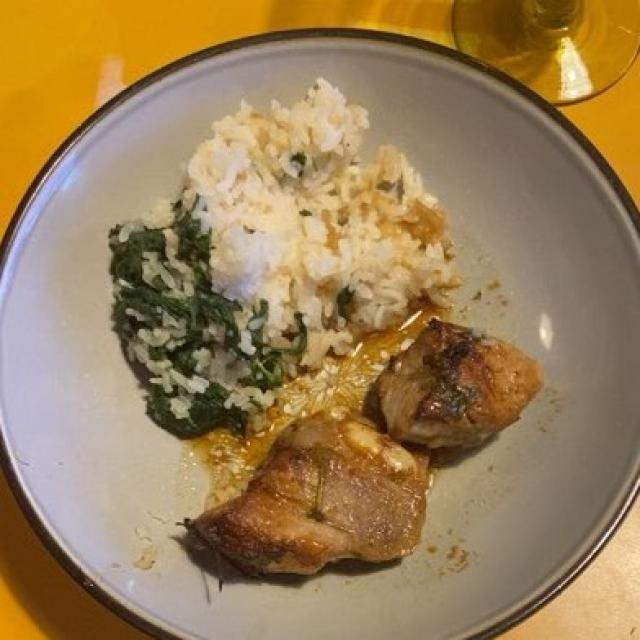pork: (212, 322, 529, 570)
rice: (180, 94, 442, 395)
spinach: (105, 193, 314, 432)
